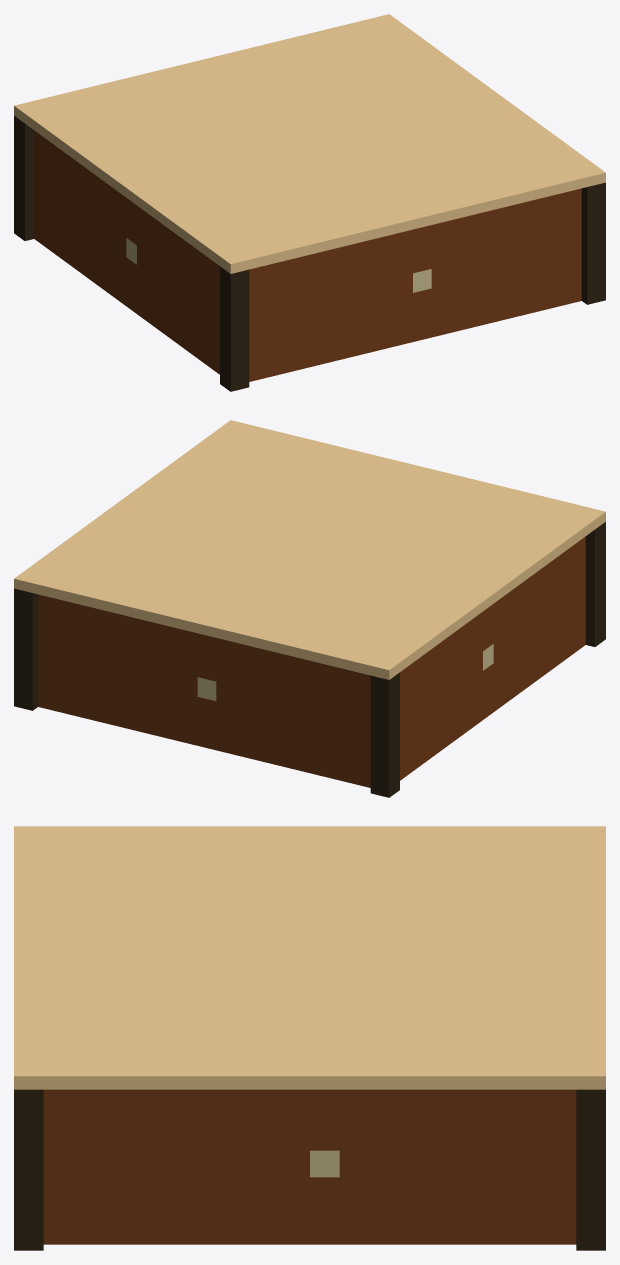
Rendered from EmptyTableSoft.obj.
3 renders of one model, top to bottom at view 1: azimuth 30°, elevation 25°; view 2: azimuth 150°, elevation 25°; view 3: azimuth 270°, elevation 25°, orthographic. The views are drawn at different scales.
Size of the model in its own units: 4 by 1.3 by 4.
Materials: 1 (1 with a texture image).
